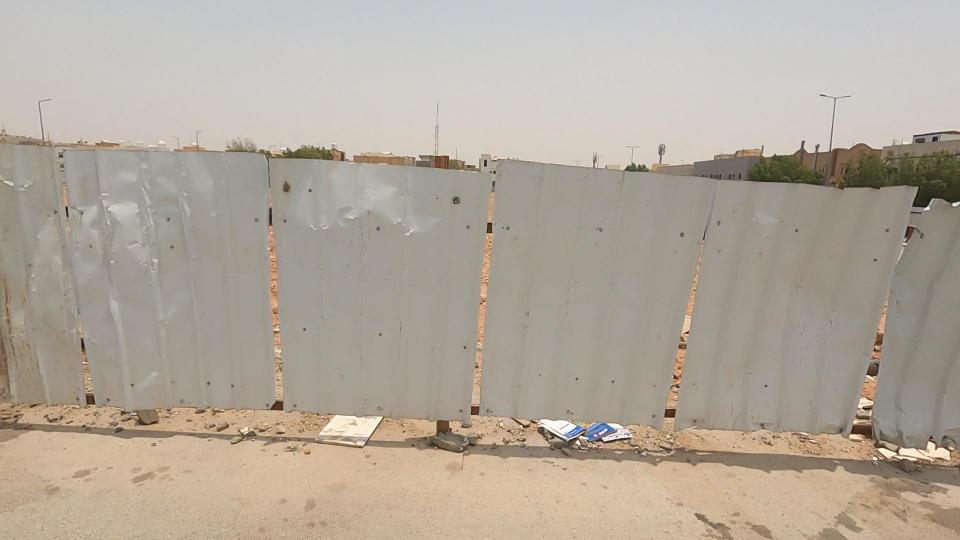GARBAGE: (460, 367, 708, 497), (271, 383, 423, 481)
